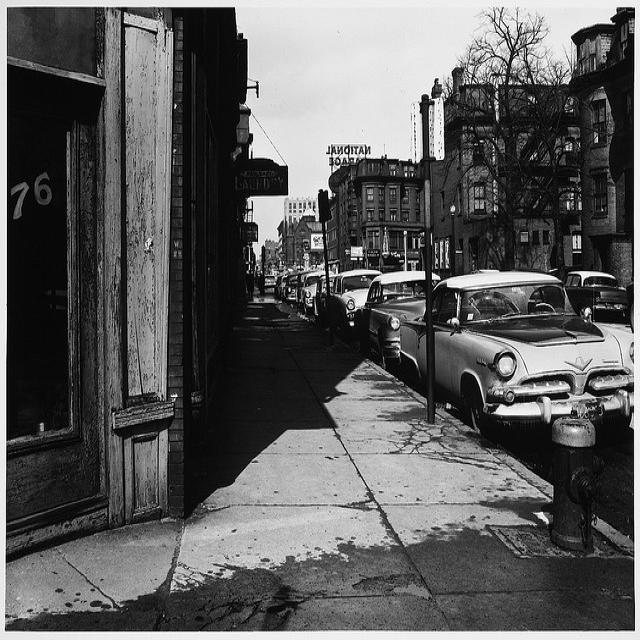fire_hydrant: (550, 402, 607, 552)
